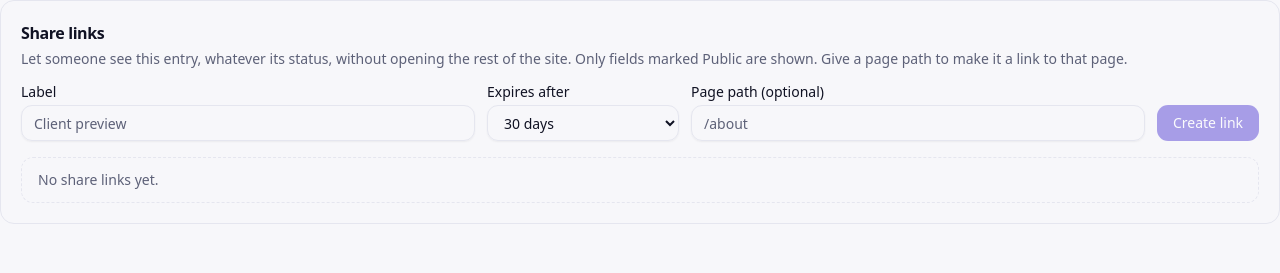
it: an entry scope › refuses a path that leaves the site before asking the API
expect the text "No share links yet." is shown: met, box top-left (21, 157), bottom-right (1259, 203)
Type "Bad" into the field labelled "Label" at (248, 123), box top-left (21, 105), bottom-right (475, 141)
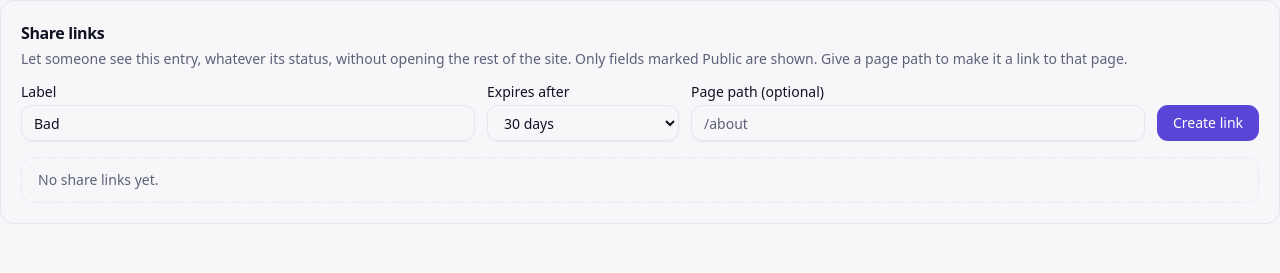
Type "//evil.example" into the field labelled "Page path (optional)" at (918, 123), box top-left (691, 105), bottom-right (1145, 141)
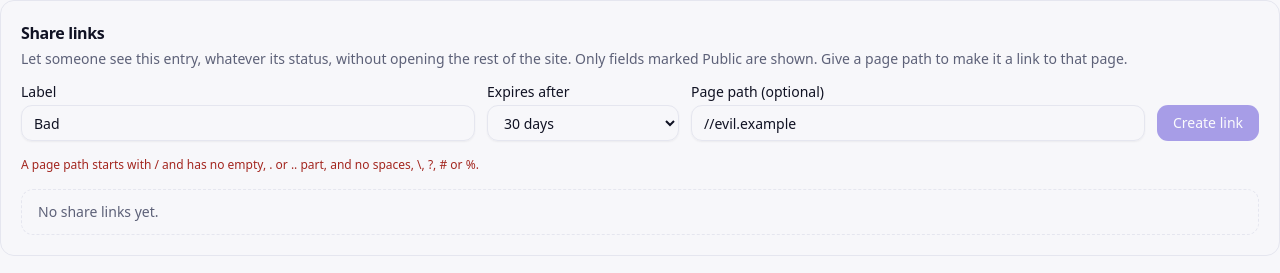
expect the message shows "A page path starts with /": met, box top-left (21, 156), bottom-right (479, 173)
expect the button "Create link" is disabled: met, box top-left (1157, 105), bottom-right (1259, 141)
